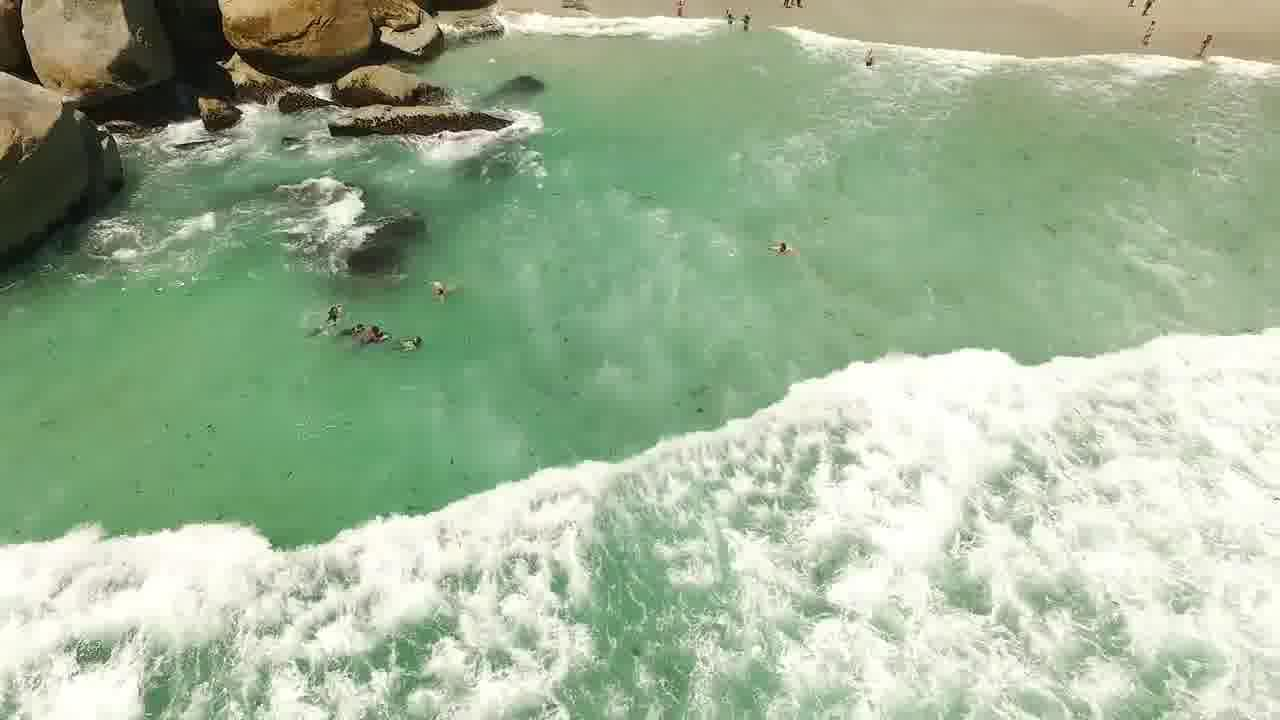human: (761, 214, 810, 270), (710, 0, 758, 38), (411, 279, 470, 306), (355, 311, 381, 357), (1189, 28, 1219, 61), (398, 327, 423, 366), (1130, 19, 1161, 41), (315, 300, 335, 328)
